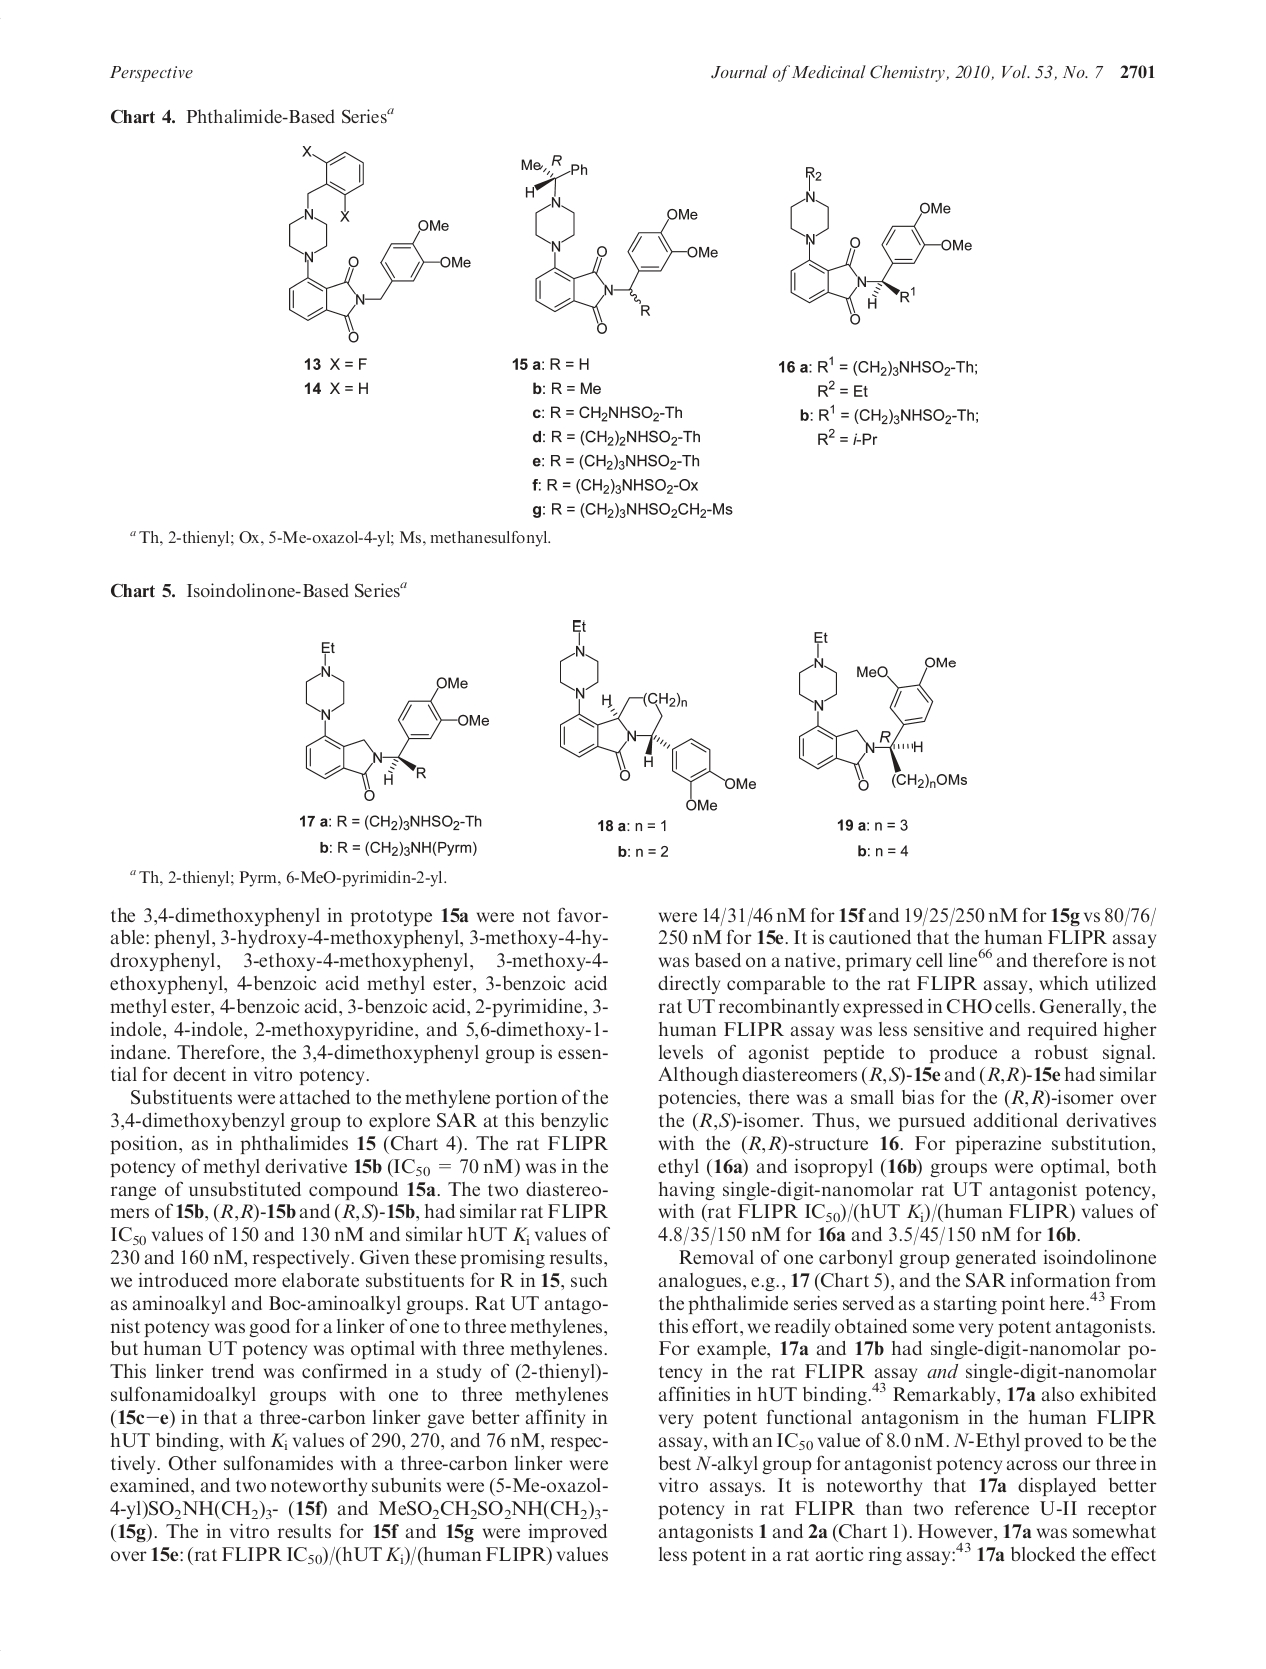exist_molecular: (559, 614, 758, 814), (286, 142, 472, 343), (517, 152, 721, 335), (302, 638, 492, 802), (787, 165, 973, 324), (797, 629, 969, 791)
